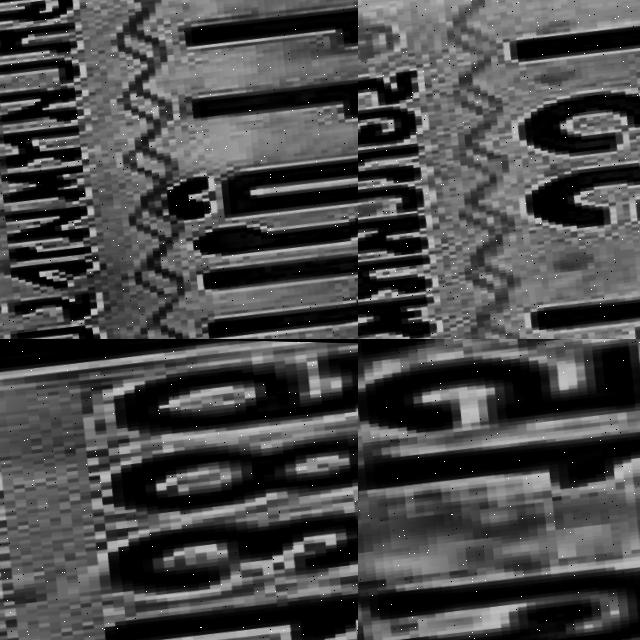license-plate: (0, 0, 358, 339), (0, 339, 358, 640), (358, 0, 640, 339), (358, 339, 640, 640)
